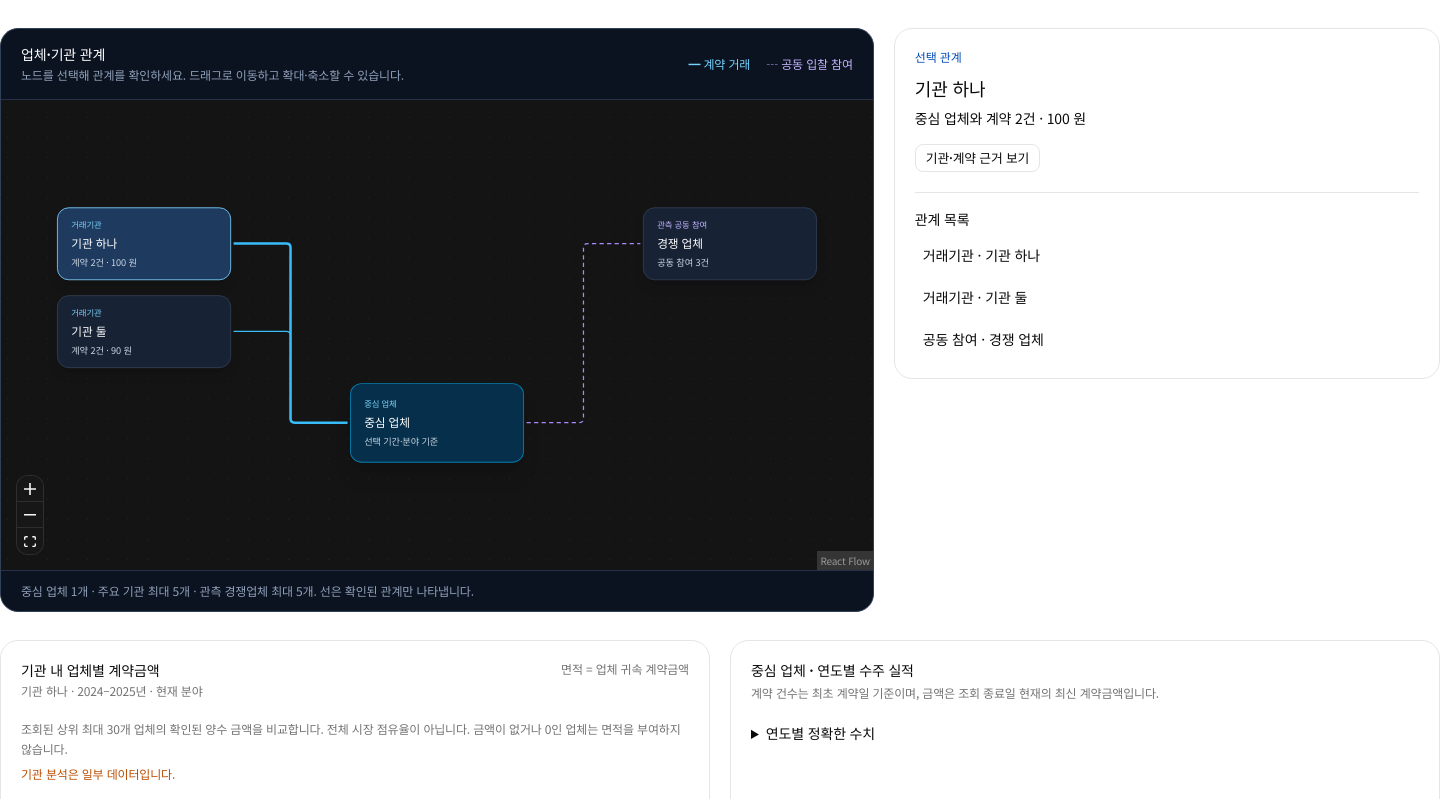
Test: 기관을 선택하면 동일 연도·분야의 분포를 조회하고 상세 연결을 유지한다
expect the text "기관 분석은 일부 데이터입니다." is shown: met, box [21,765,175,782]
Step 1. Click the button "거래기관 · 기관 둘" → (954,297), box [915,279,1419,317]
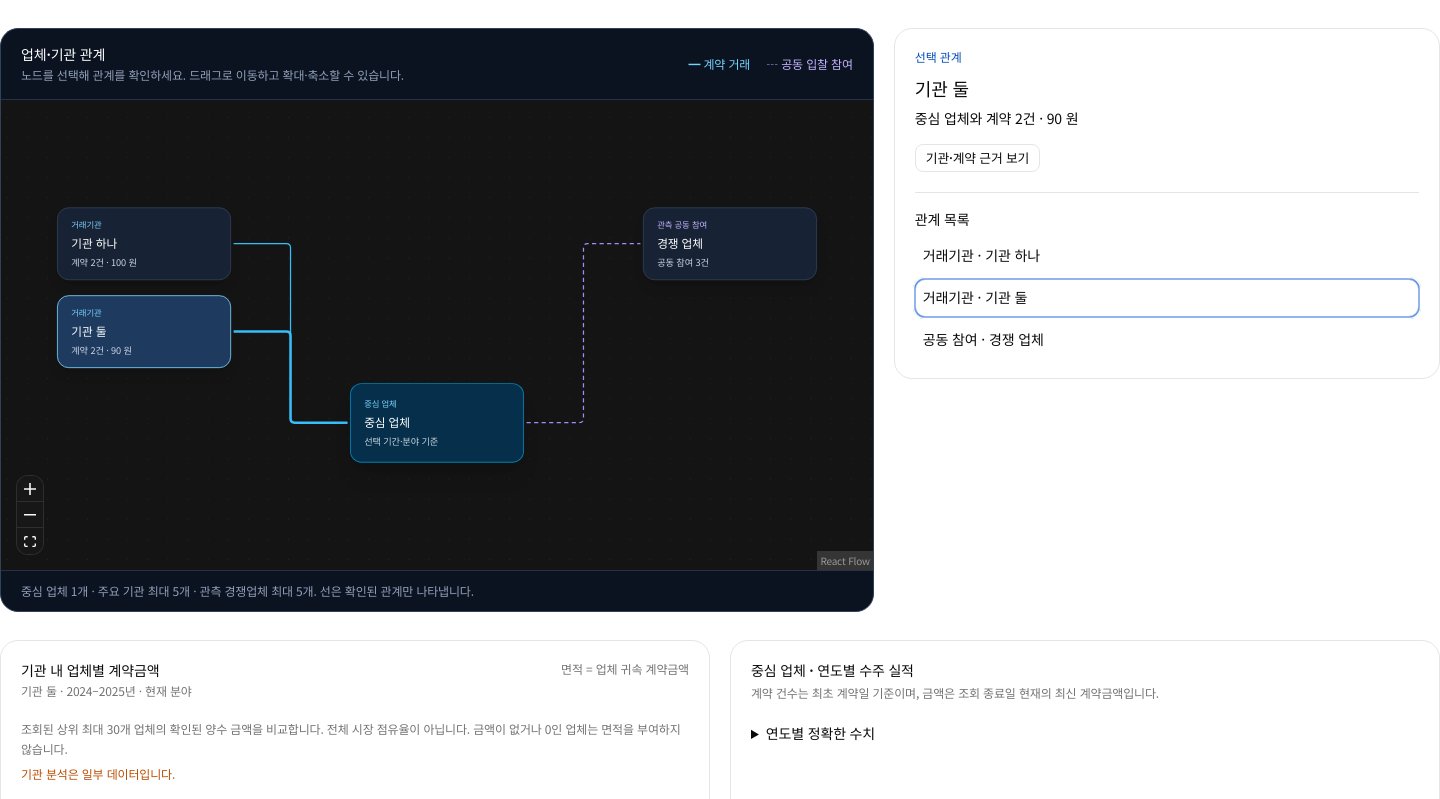
Step 2. Click the button "공동 참여 · 경쟁 업체" → (956,339), box [915,321,1419,358]
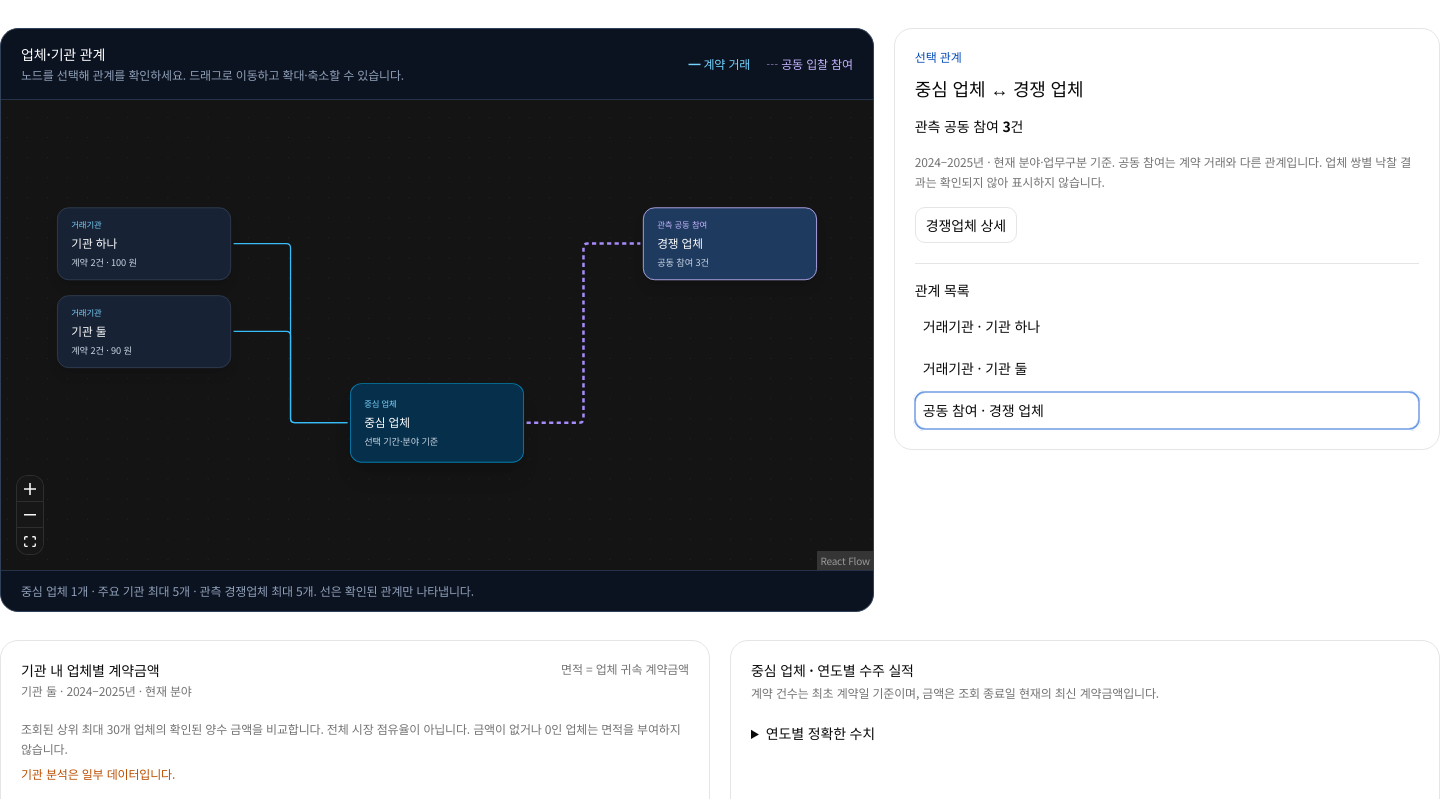
expect the heading "중심 업체 ↔ 경쟁 업체" is shown: met, box [915,75,1083,101]
